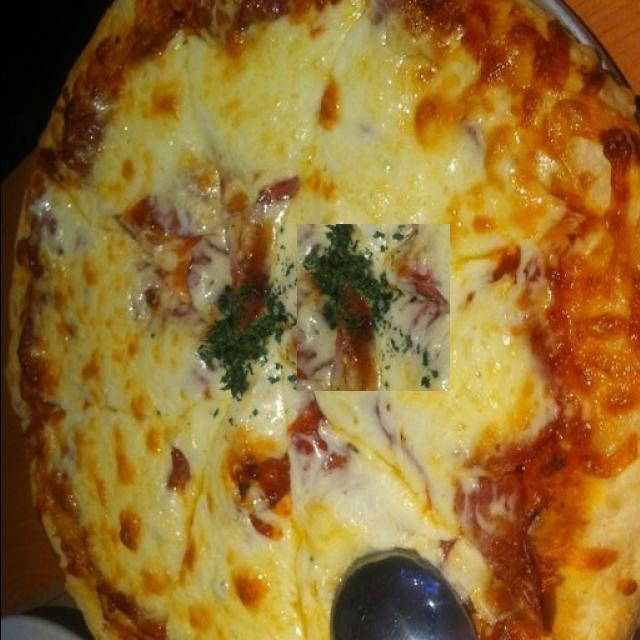basil: (296, 224, 449, 391)
pizza: (0, 0, 640, 640)
